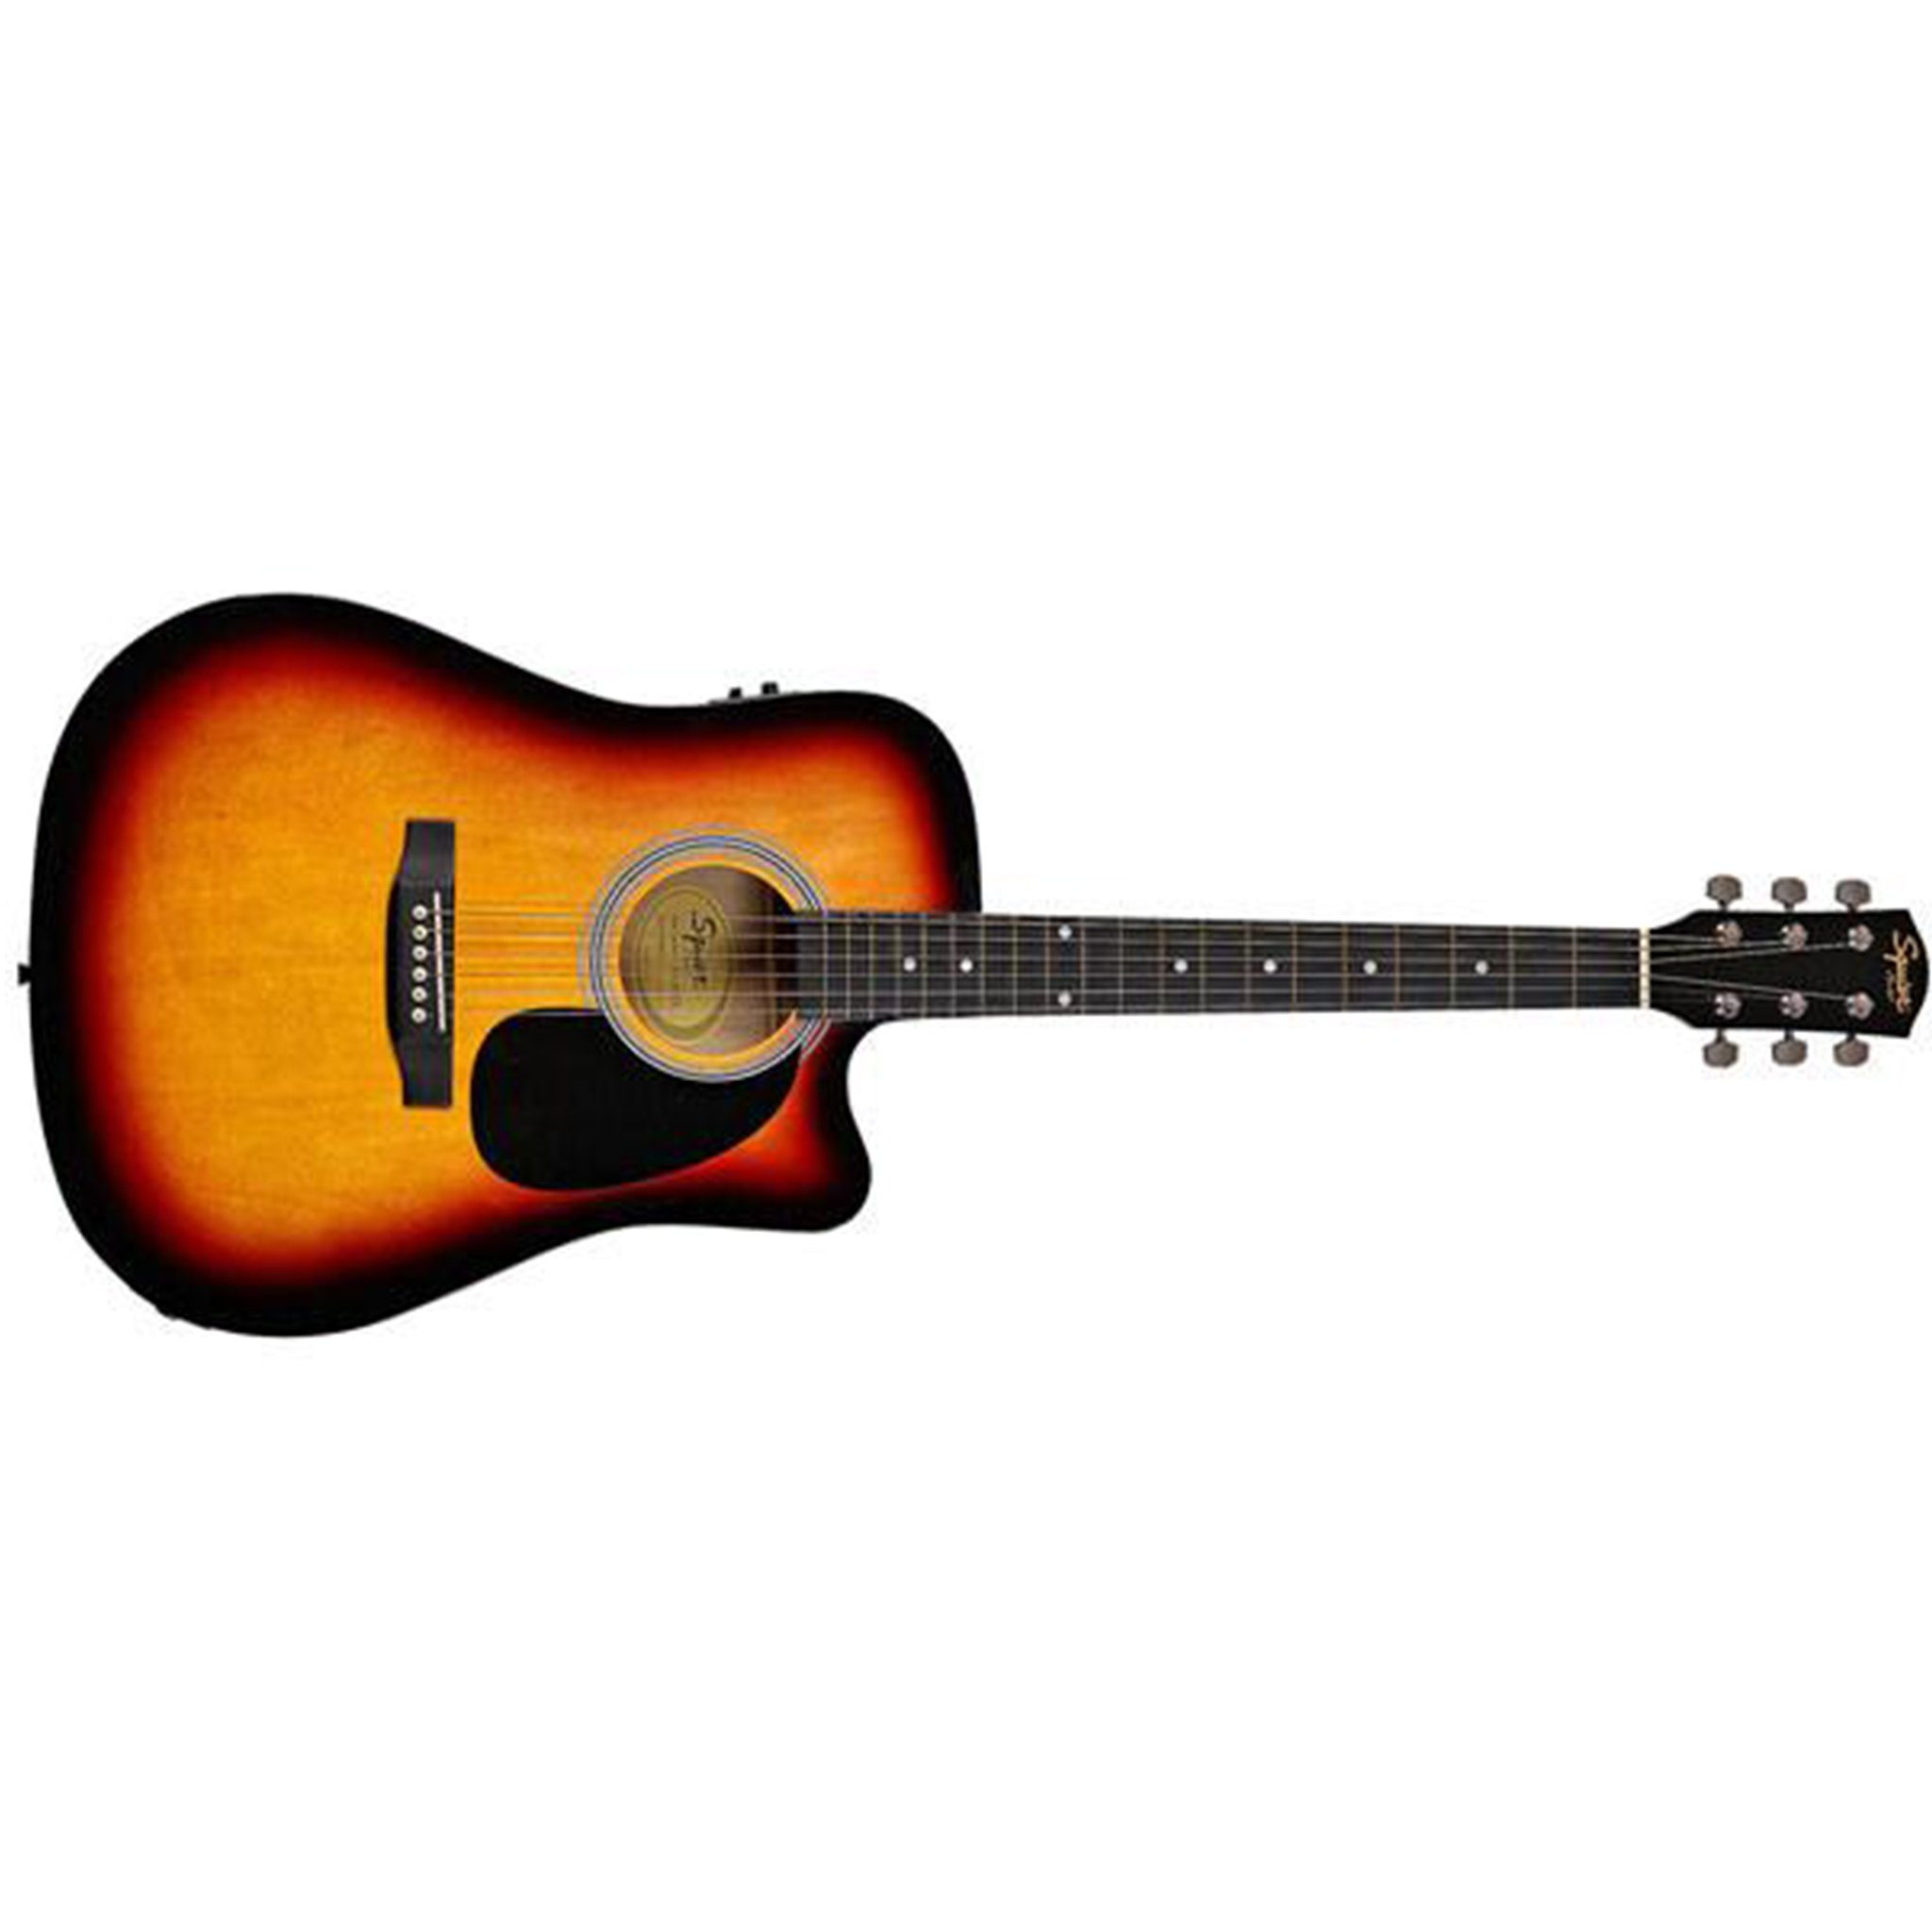guitar: (18, 566, 1932, 1355)
